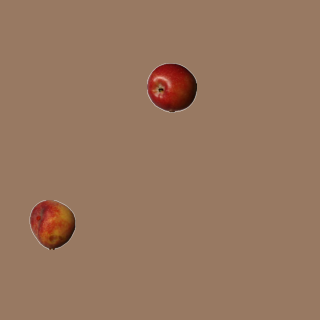Apple Braeburn: (146, 62, 196, 112)
Peach: (27, 199, 77, 249)
